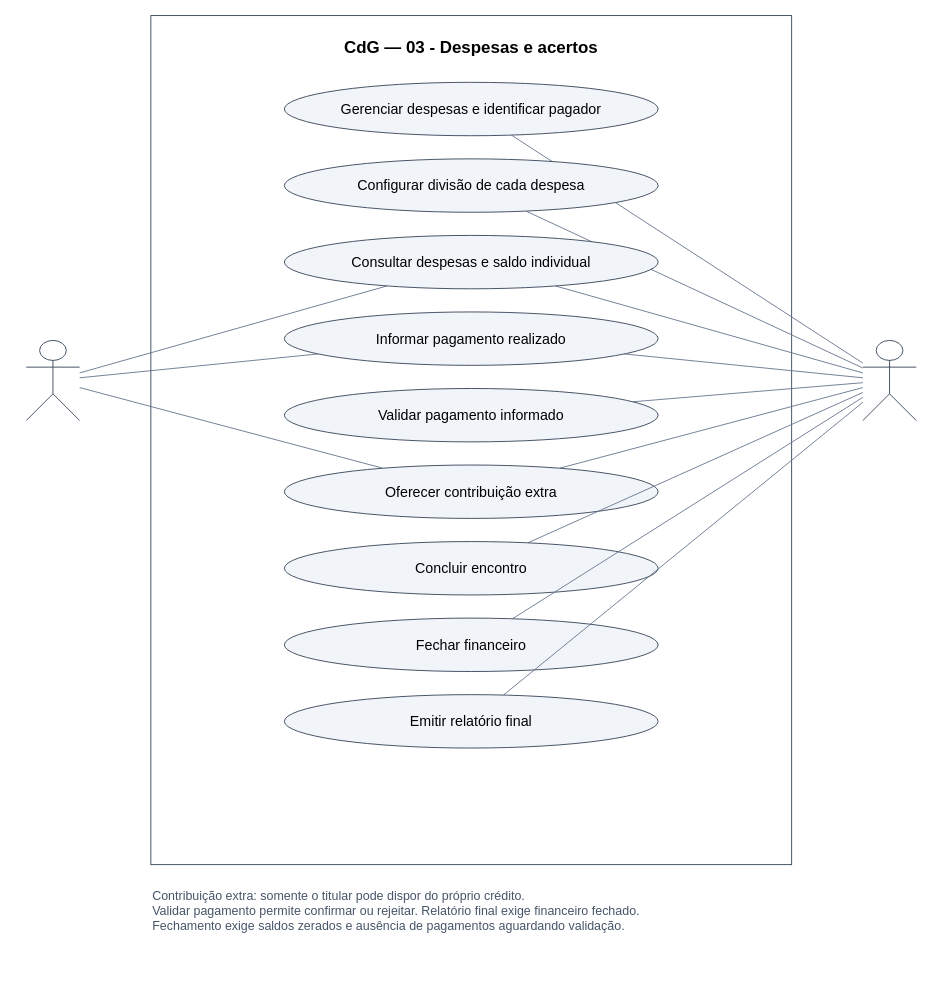
Image size: 944x996. Some labels were removed from this diagram. The centre of each missing label's shape, as x and y in pixels:
Organizador: the point at 889,380
Participante: the point at 52,380
